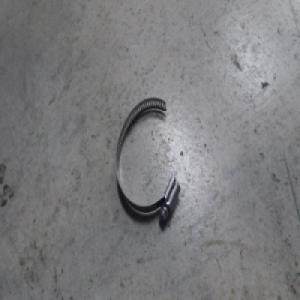AdjustableClamp: (115, 96, 181, 224)
